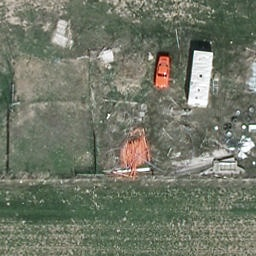camping car: (187, 51, 215, 111)
car: (151, 55, 174, 89)
